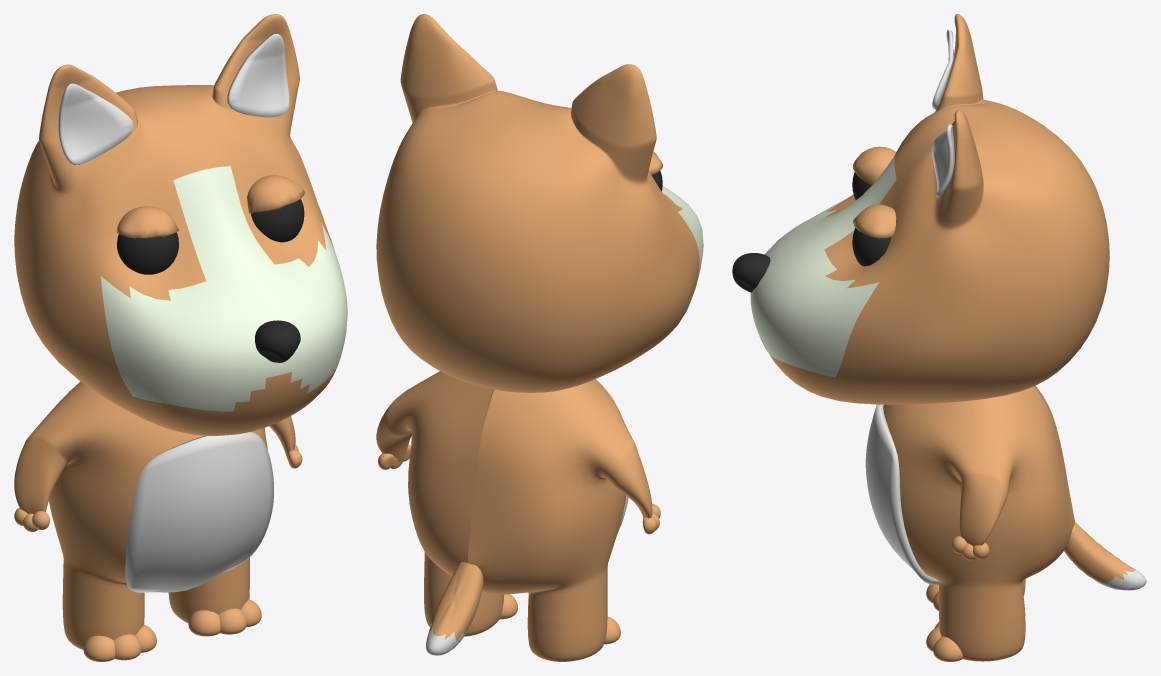
Rendered from dog.glb.
3 renders of one model, left to right at view 1: azimuth 30°, elevation 25°; view 2: azimuth 150°, elevation 25°; view 3: azimuth 270°, elevation 25°, orthographic. The views are drawn at different scales.
Parts seen in each view (by area): view 1: 立方体.015, 立方体.014, 立方体.018, 立方体.019, 球.093, 球.098, 球.094, 球.092, 球.096; view 2: 立方体.015, 立方体.014, 球.095, 球.096, 球.098, 球.097; view 3: 立方体.015, 立方体.014, 立方体.018, 球.094, 球.095, 立方体.019, 球.093, 球.092, 球.098.
Boxes of the visible parts, box(x1,y1,x2,y2) form: 立方体.015: box(14, 14, 347, 435); 立方体.014: box(14, 381, 295, 649); 立方体.018: box(125, 432, 273, 592); 立方体.019: box(58, 34, 289, 165); 球.093: box(117, 199, 304, 274); 球.098: box(83, 599, 261, 661); 球.094: box(116, 175, 304, 238); 球.092: box(255, 320, 300, 362); 球.096: box(14, 444, 302, 531); 立方体.015: box(376, 14, 703, 392); 立方体.014: box(376, 371, 652, 661); 球.095: box(430, 562, 483, 640); 球.096: box(378, 444, 660, 534); 球.098: box(500, 594, 620, 644); 球.097: box(426, 624, 466, 655); 立方体.015: box(750, 14, 1109, 404); 立方体.014: box(883, 386, 1075, 661); 立方体.018: box(865, 404, 938, 584); 球.094: box(852, 146, 896, 238); 球.095: box(1064, 522, 1135, 583); 立方体.019: box(932, 30, 954, 198); 球.093: box(852, 172, 891, 266); 球.092: box(732, 253, 770, 292); 球.098: box(926, 584, 962, 661).
Size of the model in its own units: 3.09 by 6.26 by 4.18.
